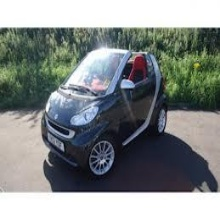no damage: (40, 47, 167, 178)
